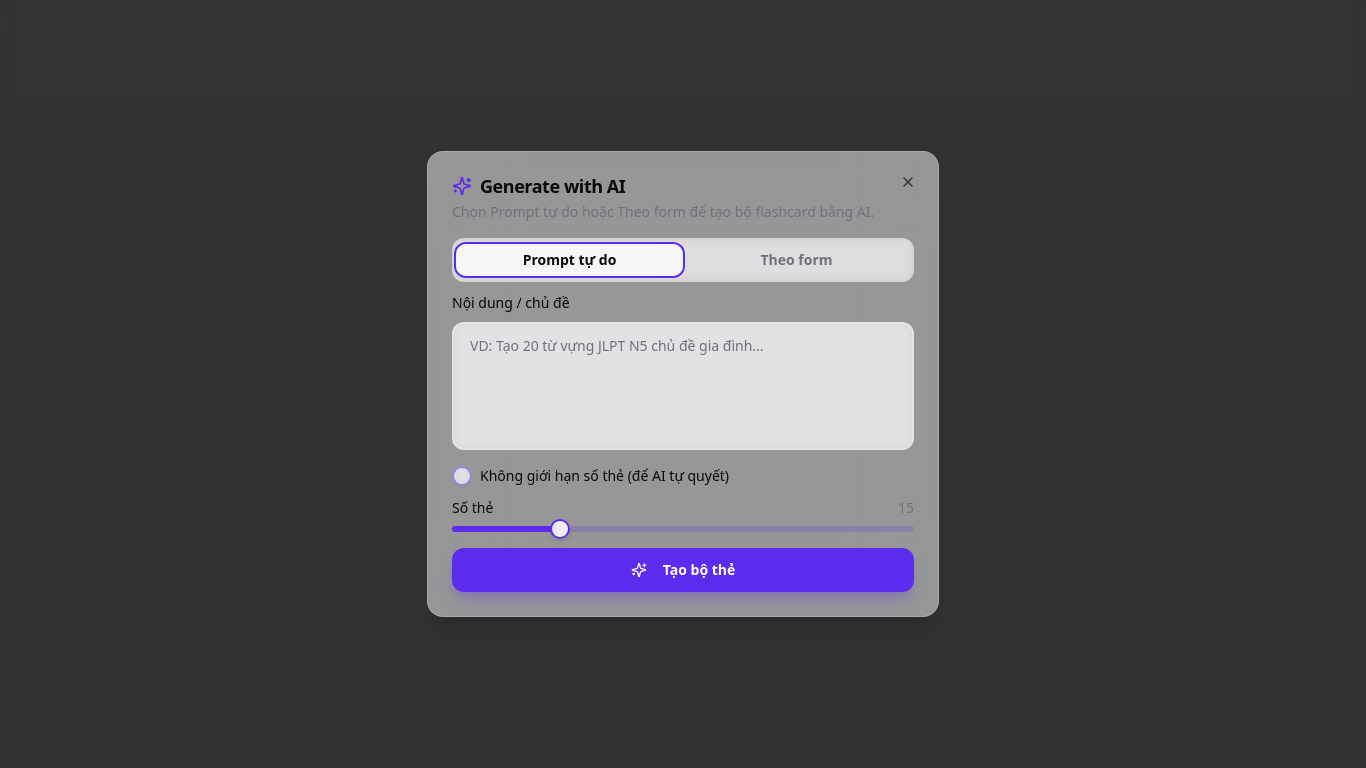
AIGenerateModal › Scenario: Prompt too short blocked client-side
Type "short" into the text box labelled "Nội dung / chủ đề".
click(683, 386); type("short")  # box [452,322,914,450]
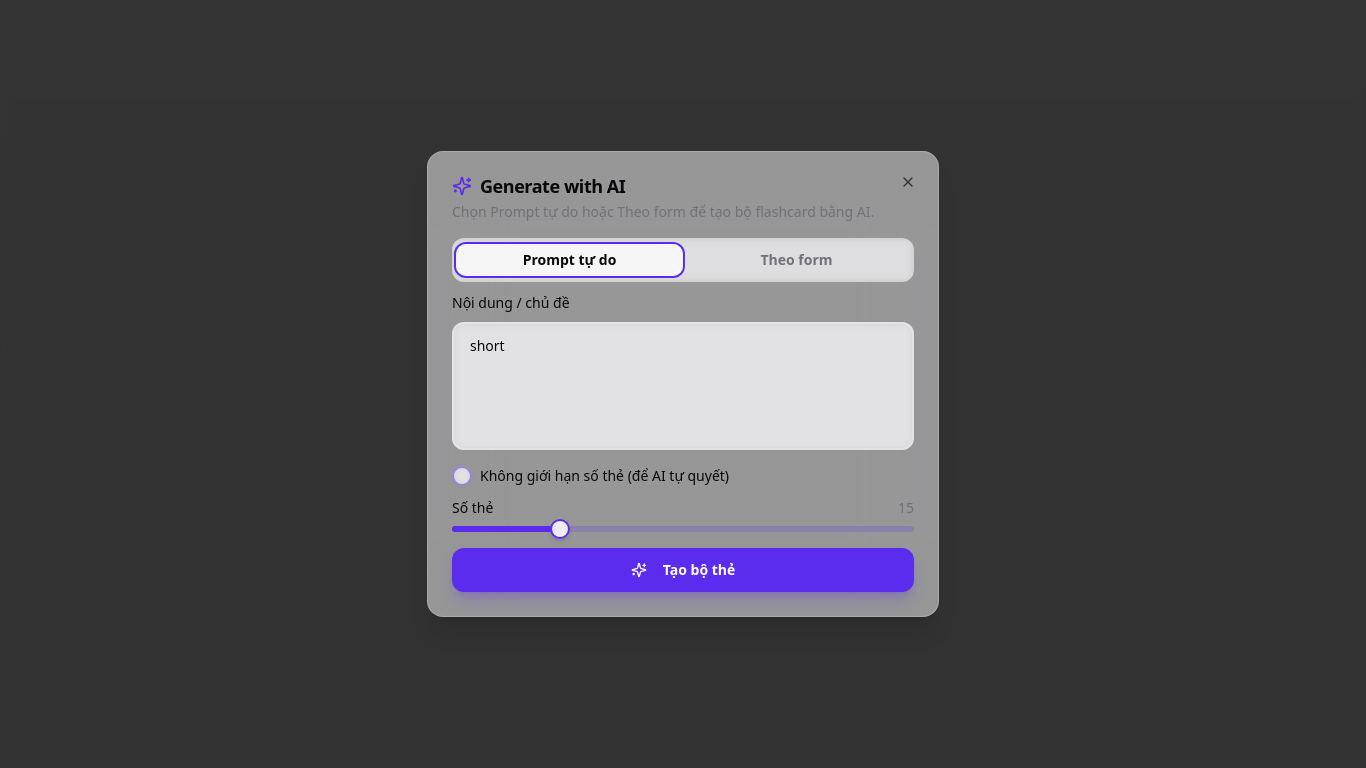
Click the button "Tạo bộ thẻ".
click(683, 570)  # box [452,548,914,592]
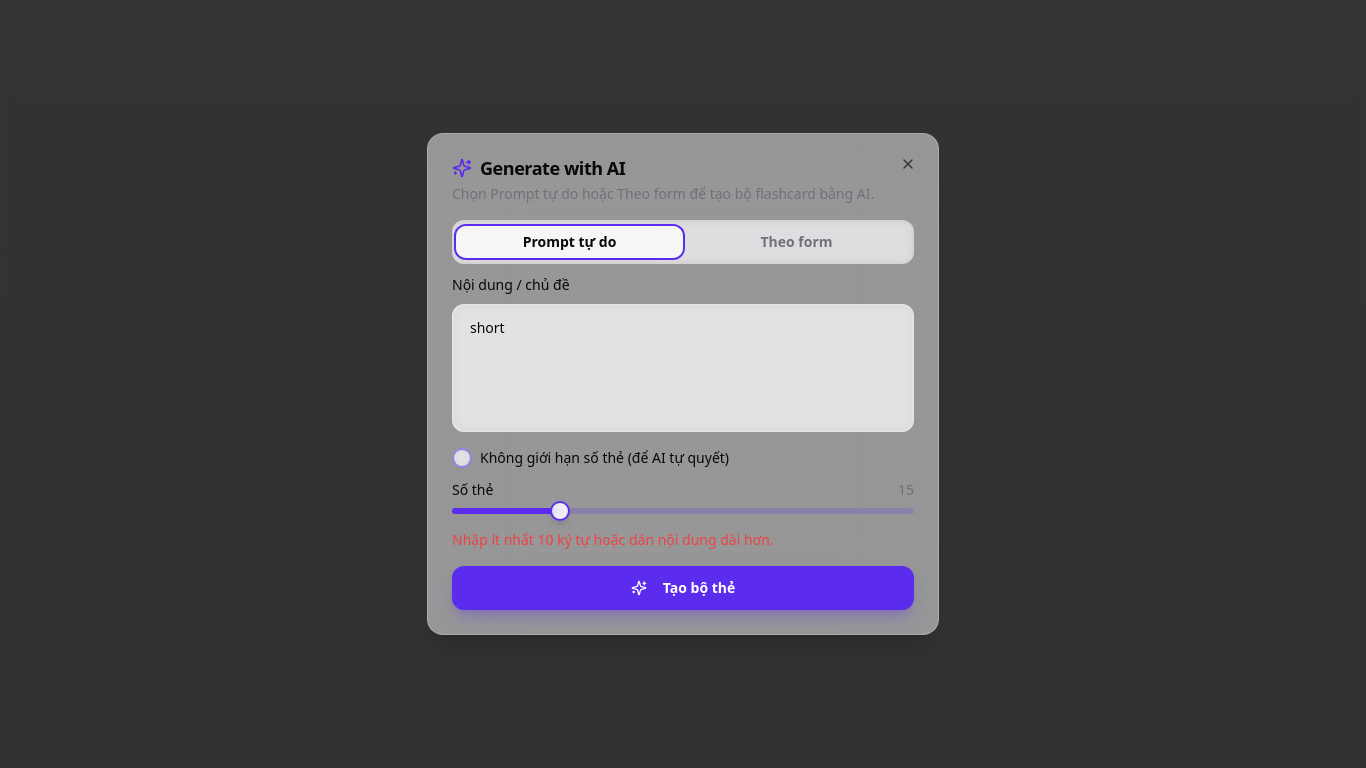
Check: the text "Nhập ít nhất 10 ký tự hoặc dán nội dung dài hơn." is shown, box [452,530,774,549]
